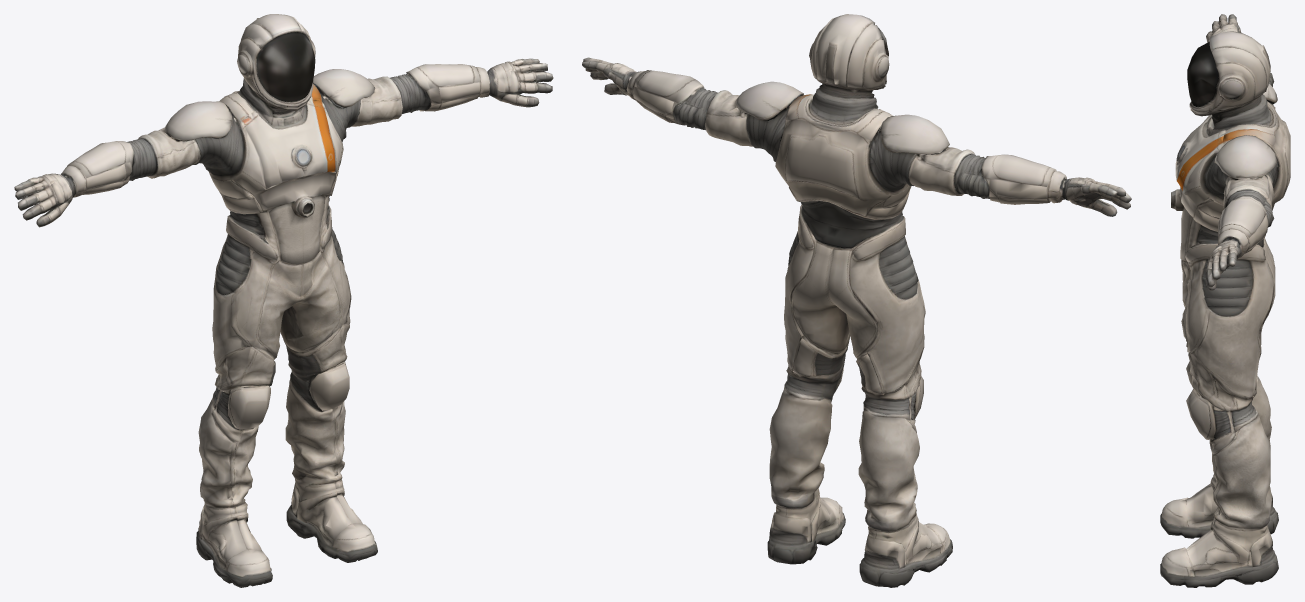
3 views of the same model, side by side, from view 1: azimuth 30°, elevation 25°; view 2: azimuth 150°, elevation 25°; view 3: azimuth 270°, elevation 25° (orthographic). The views are drawn at different scales.
Parts seen in each view (by area): view 1: tripo_node_4be56452-e84f-4d05-9b6e-a0d3c97dc6ca; view 2: tripo_node_4be56452-e84f-4d05-9b6e-a0d3c97dc6ca; view 3: tripo_node_4be56452-e84f-4d05-9b6e-a0d3c97dc6ca.
Boxes of the visible parts, <box> form: tripo_node_4be56452-e84f-4d05-9b6e-a0d3c97dc6ca: <box>14,14,553,587</box>; tripo_node_4be56452-e84f-4d05-9b6e-a0d3c97dc6ca: <box>582,14,1131,587</box>; tripo_node_4be56452-e84f-4d05-9b6e-a0d3c97dc6ca: <box>1160,14,1290,587</box>.
Bounding box in the file's own units: 0.978 × 0.9321 × 0.2125.
Materials: 1 (1 with a texture image).
